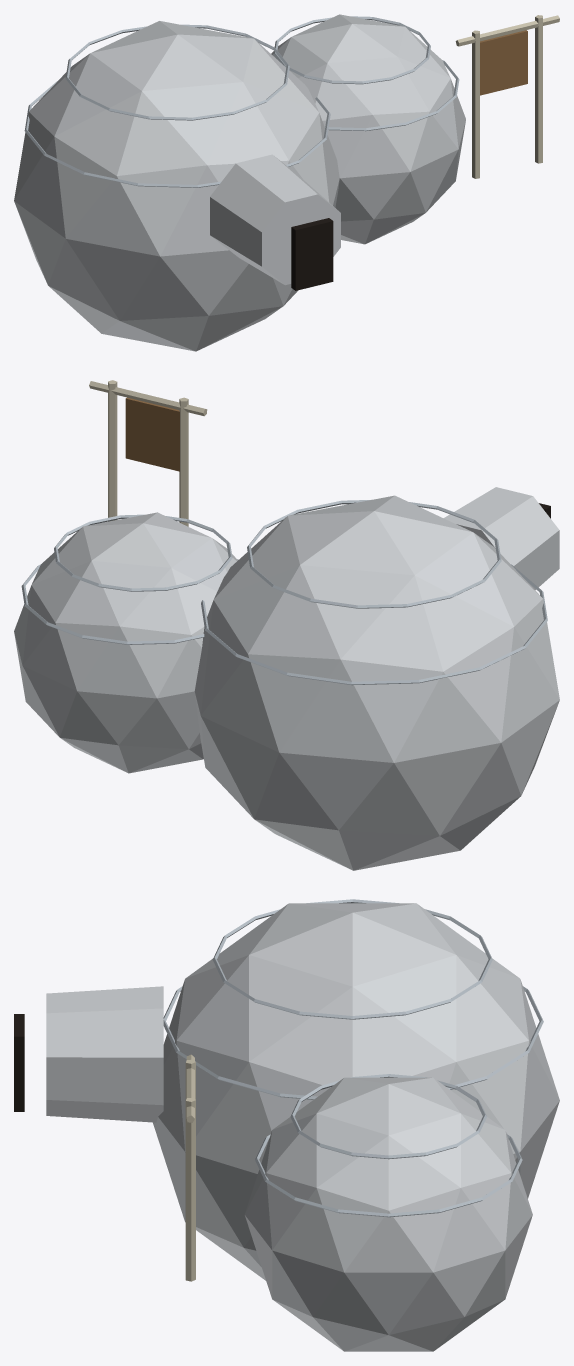
Rendered from owl_house_b.glb.
3 views of the same model, one above another, from view 1: azimuth 30°, elevation 25°; view 2: azimuth 150°, elevation 25°; view 3: azimuth 270°, elevation 25° (orthographic). The views are drawn at different scales.
Parts seen in each view (by area): view 1: owl_house_b; view 2: owl_house_b; view 3: owl_house_b.
Boxes of the visible parts, x1,y1,x2,y2 form: owl_house_b: (14, 14, 559, 351); owl_house_b: (14, 380, 559, 870); owl_house_b: (14, 899, 559, 1351).
Bounding box in the file's own units: 3.59 × 2.3 × 3.03.
